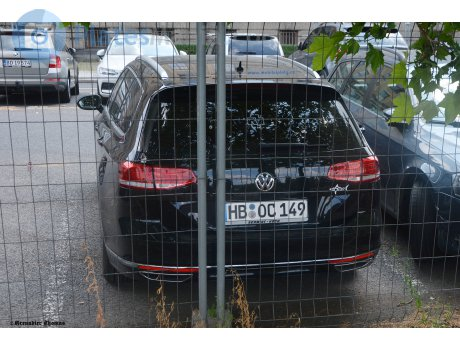License Plates: (230, 201, 306, 219)
